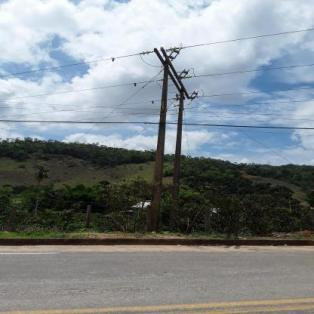Poste: (145, 58, 174, 234), (170, 86, 188, 230)
